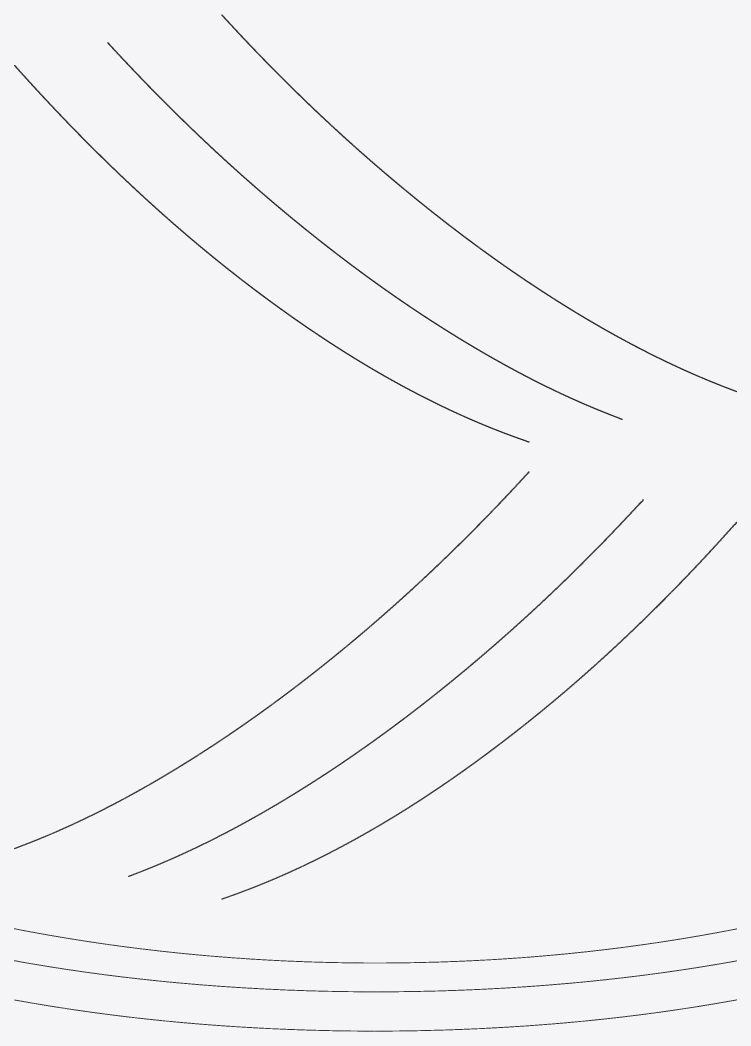
The model's file is Cables.fbx.
3 views of the same model, one above another, from view 1: azimuth 30°, elevation 25°; view 2: azimuth 150°, elevation 25°; view 3: azimuth 270°, elevation 25° (orthographic). The views are drawn at different scales.
Visible parts, largest first — view 1: PowerCables_LOD0; view 2: PowerCables_LOD0; view 3: PowerCables_LOD0.
Part boxes in pixels (x1=…): PowerCables_LOD0: x1=14, y1=14, x2=736, y2=442; PowerCables_LOD0: x1=14, y1=471, x2=736, y2=899; PowerCables_LOD0: x1=14, y1=928, x2=736, y2=1031.
Size of what is drawn, in the model's own units: 378 by 86.42 by 1615.
